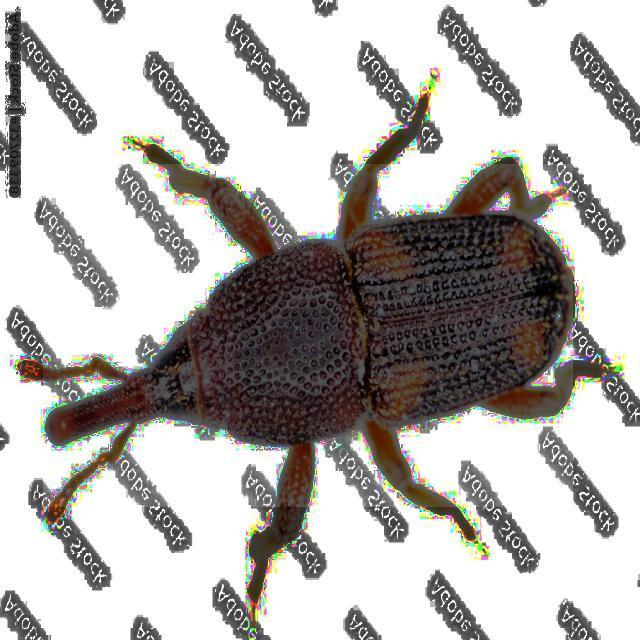rice-bug: (43, 164, 573, 507)
